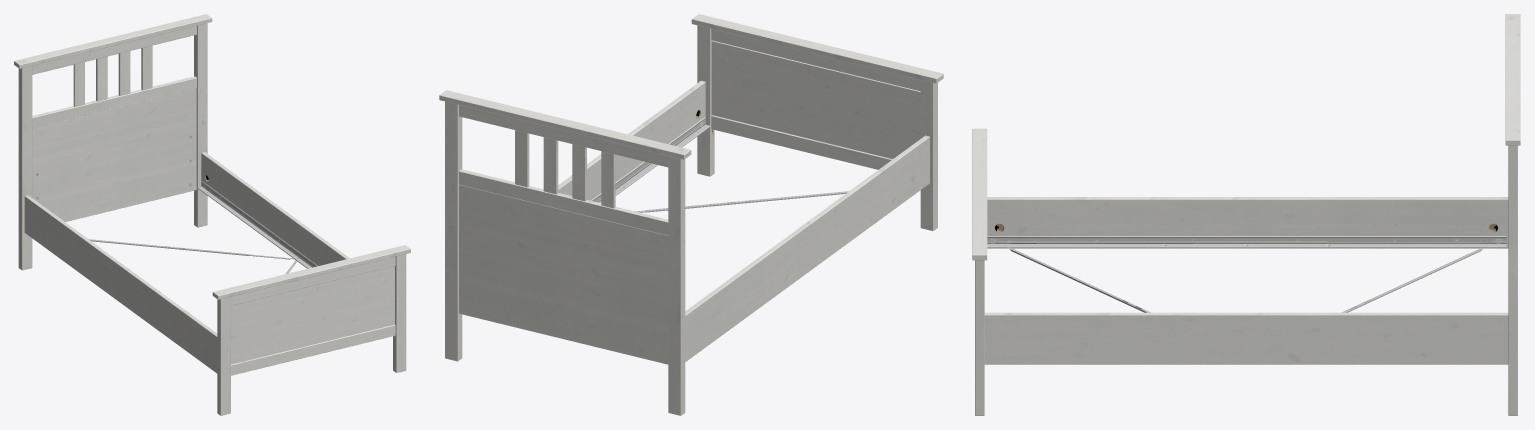
File: HEMNES_40249560.glb
3 renders of one model, left to right at view 1: azimuth 30°, elevation 25°; view 2: azimuth 150°, elevation 25°; view 3: azimuth 270°, elevation 25°, orthographic. The views are drawn at different scales.
Visible parts, largest first — view 1: model; view 2: model; view 3: model.
Part boxes in pixels (x1,y1,x2,y2): model: (14,14,410,415); model: (439,14,943,415); model: (972,14,1520,415).
Size of the model in its own units: 1.09 by 1.12 by 2.
1 material, 1 textured.
